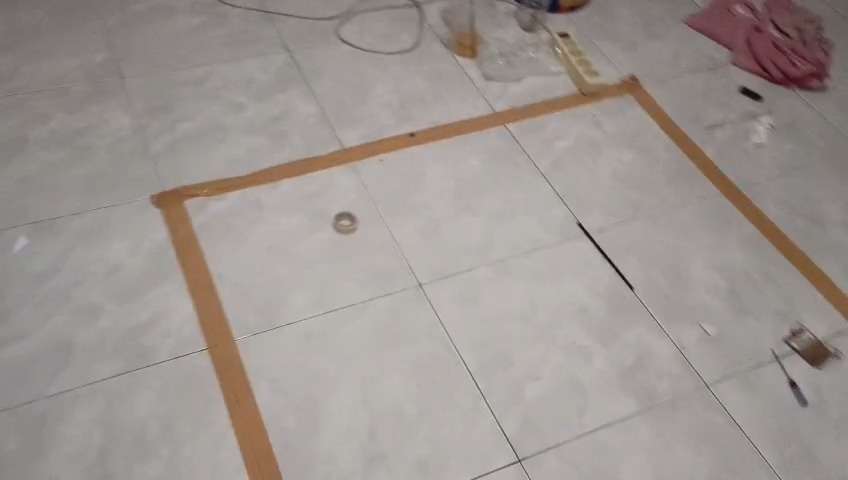floor marking: (152, 77, 847, 479)
